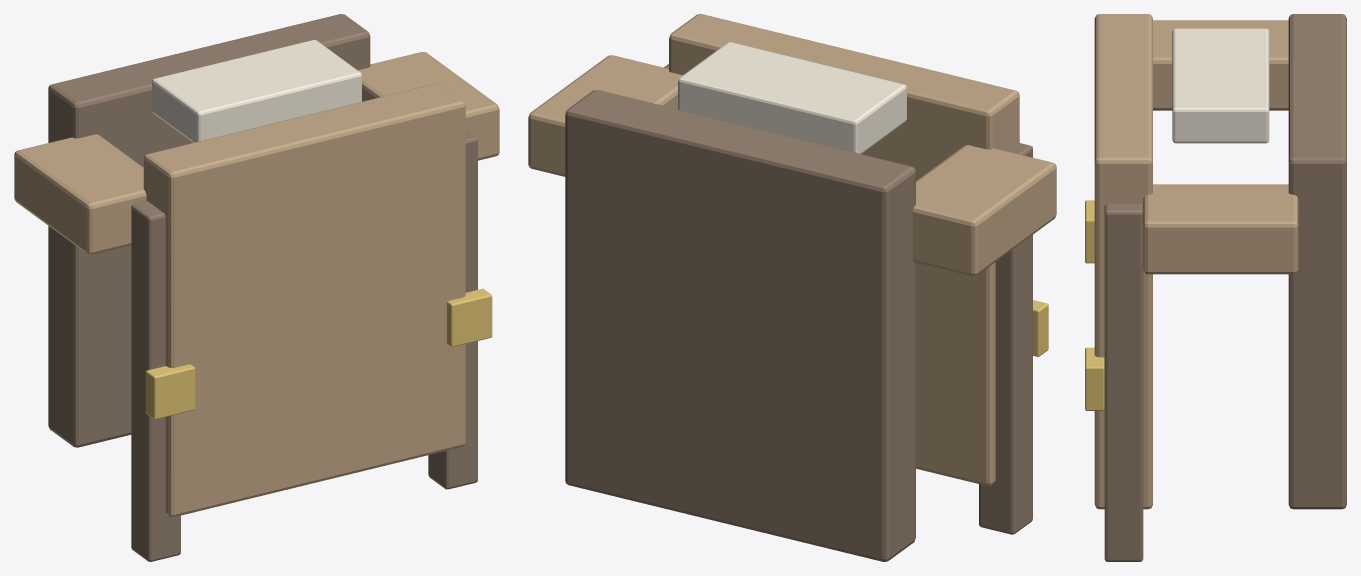
The model's file is armor_leather.glb.
The picture shows the model from 3 angles, left to right: view 1: azimuth 30°, elevation 25°; view 2: azimuth 150°, elevation 25°; view 3: azimuth 270°, elevation 25°; orthographic projection. The views are drawn at different scales.
Parts seen in each view (by area): view 1: Front, Back, Linen_neck, Strap_L, Shoulder_L, Strap_R, Shoulder_R, Buckle_L, Buckle_R; view 2: Back, Front, Linen_neck, Shoulder_L, Strap_L, Shoulder_R, Buckle_L; view 3: Back, Front, Strap_R, Shoulder_R, Linen_neck, Shoulder_L, Buckle_R, Buckle_L.
Part boxes in pixels (bbox=[...]): Front: bbox=[143, 83, 465, 517]; Back: bbox=[48, 14, 370, 447]; Linen_neck: bbox=[152, 40, 361, 142]; Strap_L: bbox=[131, 201, 180, 561]; Shoulder_L: bbox=[14, 134, 146, 254]; Strap_R: bbox=[428, 129, 477, 489]; Shoulder_R: bbox=[358, 52, 499, 160]; Buckle_L: bbox=[145, 364, 195, 419]; Buckle_R: bbox=[447, 288, 492, 347]; Back: bbox=[565, 90, 915, 561]; Front: bbox=[669, 14, 1019, 485]; Linen_neck: bbox=[678, 42, 906, 154]; Shoulder_L: bbox=[912, 145, 1056, 276]; Strap_L: bbox=[979, 142, 1032, 534]; Shoulder_R: bbox=[528, 55, 682, 176]; Buckle_L: bbox=[1033, 300, 1048, 356]; Back: bbox=[1288, 14, 1346, 509]; Front: bbox=[1094, 14, 1152, 509]; Strap_R: bbox=[1104, 203, 1143, 561]; Shoulder_R: bbox=[1143, 184, 1298, 274]; Linen_neck: bbox=[1172, 28, 1269, 143]; Shoulder_L: bbox=[1153, 20, 1288, 110]; Buckle_R: bbox=[1085, 347, 1104, 410]; Buckle_L: bbox=[1085, 200, 1094, 263].
Bounding box in the file's own units: 0.5 × 0.47 × 0.27.
